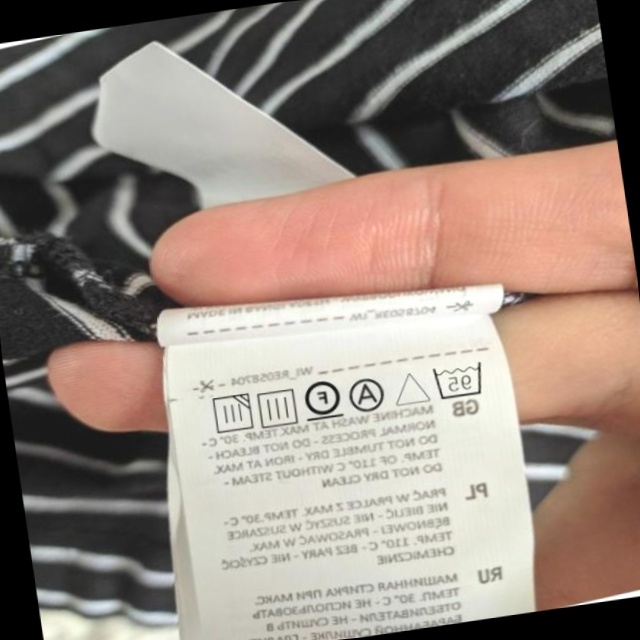95C: (429, 358, 488, 402)
bleach: (392, 365, 431, 410)
drip_dry: (253, 384, 301, 430)
drip_dry_in_shade: (206, 390, 255, 438)
dry_clean: (347, 374, 389, 414)
dry_clean_petrol_only: (300, 374, 344, 423)
